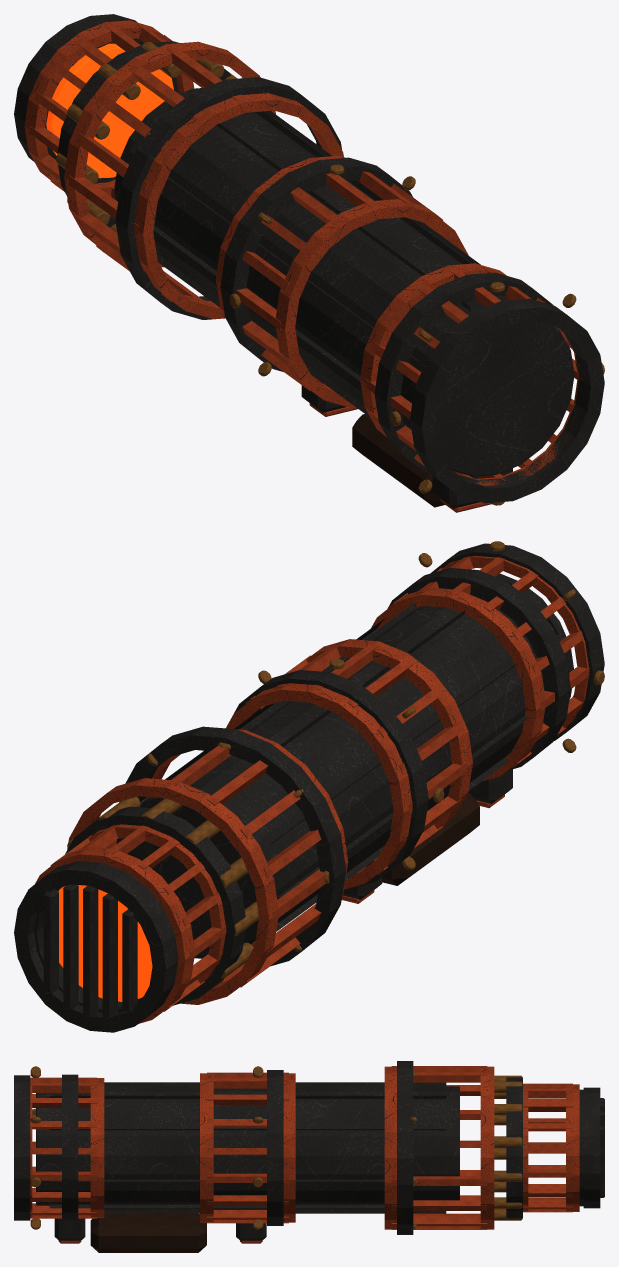
The model's file is kiln-focus-damaged.glb.
The picture shows the model from 3 angles, top to bottom: view 1: azimuth 30°, elevation 25°; view 2: azimuth 150°, elevation 25°; view 3: azimuth 270°, elevation 25°; orthographic projection. The views are drawn at different scales.
Visible parts, largest first — view 1: Forged barrel core, Machined barrel rim, Ceramic vent header, Machined barrel rim.003, Ceramic vent header.003, Machined barrel rim.002, Machined barrel rim.001, Ceramic vent footer, Ceramic vent footer.001, Banked ember recessed chamber, Ceramic vent footer.002, Insulated palm grip (+22 smaller); view 2: Forged barrel core, Muzzle lip, Machined barrel rim.003, Ceramic vent footer, Machined barrel rim.001, Ceramic vent footer.003, Ceramic vent footer.002, Machined barrel rim.004, Machined barrel rim.002, Ceramic vent header.003, Machined barrel rim, Ceramic vent footer.001 (+27 smaller); view 3: Forged barrel core, Insulated palm grip, Machined barrel rim.003, Machined barrel rim.002, Machined barrel rim.001, Machined barrel rim, Ceramic vent footer, Muzzle lip, Ceramic vent header, Ceramic vent footer.002, Ceramic vent header.003, Machined barrel rim.004 (+45 smaller).
Part boxes in pixels (x1=…): Forged barrel core: x1=114, y1=87, x2=574, y2=476; Machined barrel rim: x1=410, y1=298, x2=604, y2=503; Ceramic vent header: x1=134, y1=93, x2=343, y2=319; Machined barrel rim.003: x1=115, y1=77, x2=341, y2=319; Ceramic vent header.003: x1=275, y1=199, x2=468, y2=407; Machined barrel rim.002: x1=220, y1=157, x2=412, y2=371; Machined barrel rim.001: x1=374, y1=272, x2=553, y2=472; Ceramic vent footer: x1=64, y1=41, x2=275, y2=267; Ceramic vent footer.001: x1=24, y1=20, x2=194, y2=196; Banked ember recessed chamber: x1=46, y1=43, x2=173, y2=178; Ceramic vent footer.002: x1=360, y1=263, x2=506, y2=436; Insulated palm grip: x1=352, y1=414, x2=444, y2=507; Forged barrel core: x1=116, y1=573, x2=573, y2=958; Muzzle lip: x1=14, y1=861, x2=177, y2=1032; Machined barrel rim.003: x1=119, y1=726, x2=346, y2=966; Ceramic vent footer: x1=67, y1=778, x2=278, y2=1004; Machined barrel rim.001: x1=387, y1=568, x2=570, y2=770; Ceramic vent footer.003: x1=226, y1=683, x2=412, y2=889; Ceramic vent footer.002: x1=371, y1=587, x2=545, y2=781; Machined barrel rim.004: x1=65, y1=806, x2=245, y2=1005; Machined barrel rim.002: x1=227, y1=670, x2=428, y2=888; Ceramic vent header.003: x1=306, y1=639, x2=472, y2=828; Machined barrel rim: x1=430, y1=543, x2=604, y2=740; Ceramic vent footer.001: x1=35, y1=847, x2=195, y2=1023; Forged barrel core: x1=36, y1=1086, x2=459, y2=1209; Insulated palm grip: x1=90, y1=1213, x2=206, y2=1252; Machined barrel rim.003: x1=397, y1=1061, x2=413, y2=1234; Machined barrel rim.002: x1=267, y1=1070, x2=283, y2=1225; Machined barrel rim.001: x1=62, y1=1074, x2=78, y2=1221; Machined barrel rim: x1=14, y1=1075, x2=30, y2=1220; Ceramic vent footer: x1=480, y1=1066, x2=494, y2=1229; Muzzle lip: x1=583, y1=1087, x2=600, y2=1208; Ceramic vent header: x1=384, y1=1066, x2=396, y2=1229; Ceramic vent footer.002: x1=90, y1=1078, x2=104, y2=1217; Ceramic vent header.003: x1=200, y1=1073, x2=213, y2=1222; Machined barrel rim.004: x1=506, y1=1077, x2=522, y2=1218.
Size of the model in its own units: 0.256 by 0.2875 by 0.864.
Materials: 5 (4 with a texture image).
